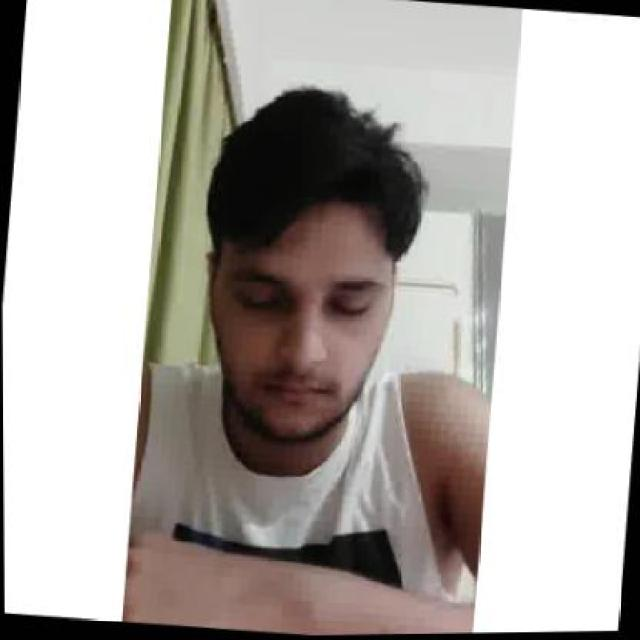inattentif: (184, 72, 416, 457)
